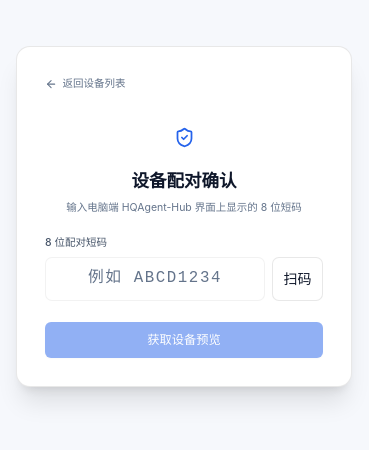
Scenario: RemotePairingPage › handles REMOTE_PAIRING_CONFLICT error correctly
Type "CONFLICT" into the field labelled "8 位配对短码" at (155, 278), box 45,256 -> 265,300
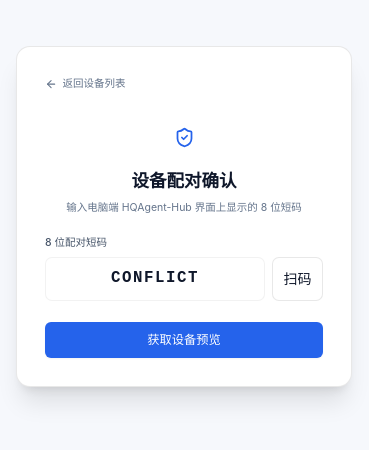
Click the button with test id "preview-btn" at (184, 340), box 45,322 -> 323,358
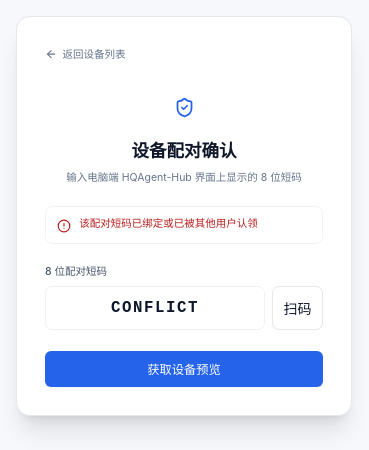
Result: the message "该配对短码已绑定或已被其他用户认领" is shown at 45,206 -> 323,244
